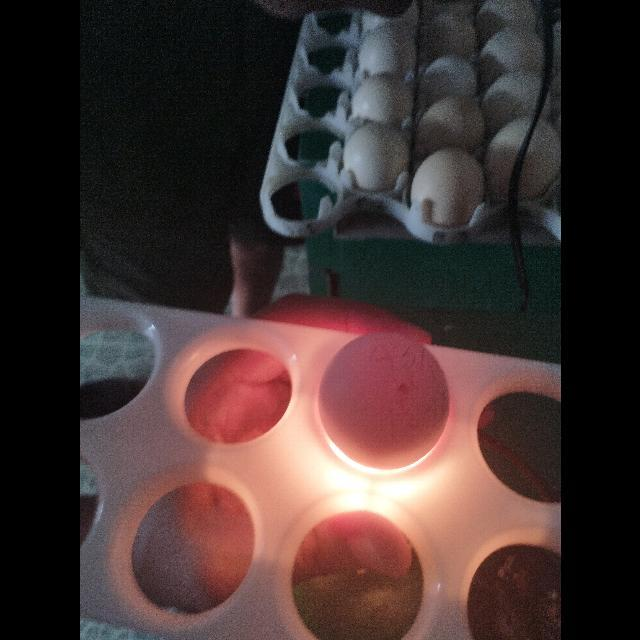Fertile: (315, 329, 455, 476)
